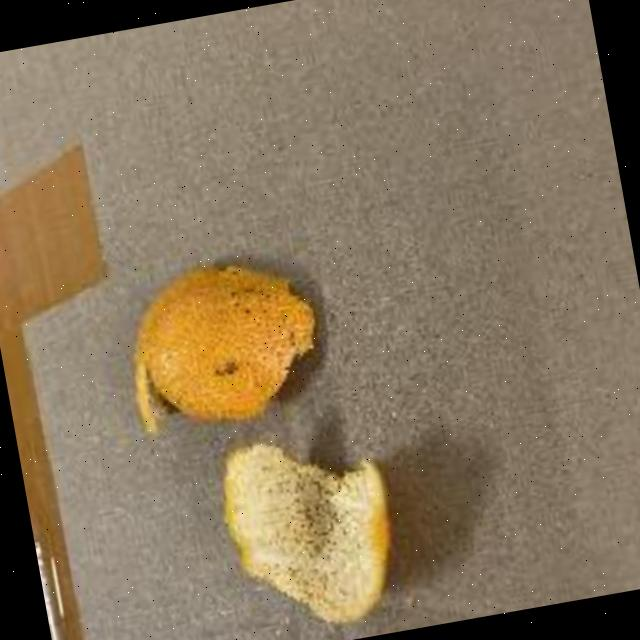orange-peel: (112, 245, 332, 440)
